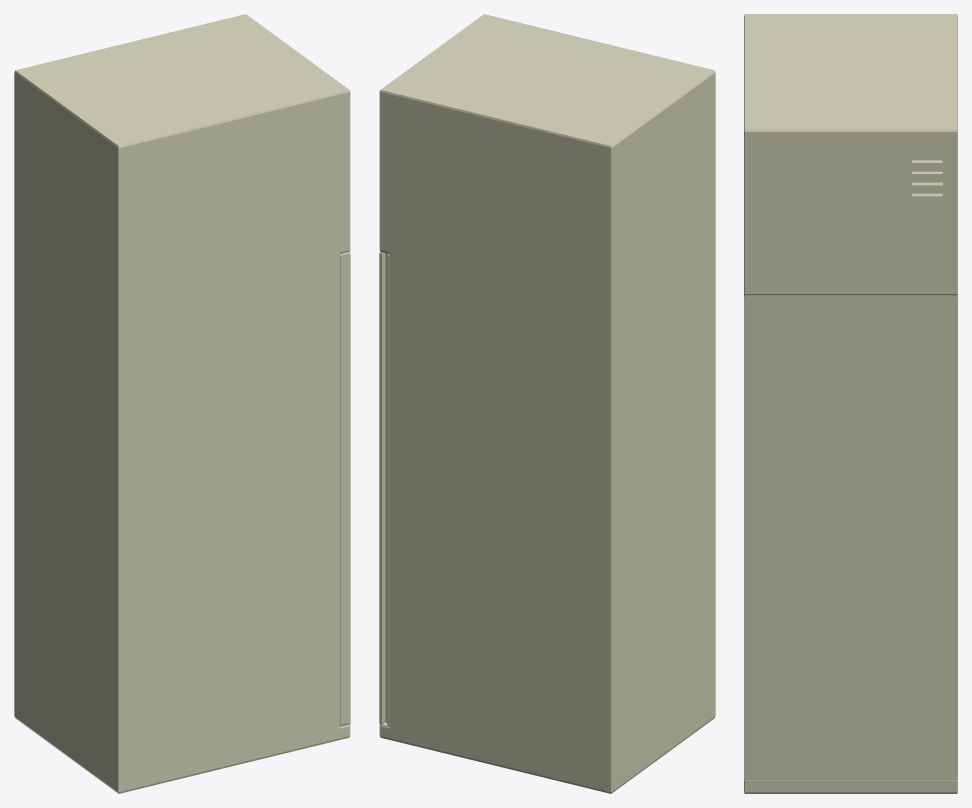
File: Frigo v2.fbx
The picture shows the model from 3 angles, left to right: view 1: azimuth 30°, elevation 25°; view 2: azimuth 150°, elevation 25°; view 3: azimuth 270°, elevation 25°; orthographic projection. The views are drawn at different scales.
Visible parts, largest first — view 1: Frigo, Porta; view 2: Frigo, Porta; view 3: Vetro, Frigo, Porta.
Part boxes in pixels (x1=…): Frigo: x1=14, y1=14, x2=350, y2=793; Porta: x1=340, y1=251, x2=350, y2=726; Frigo: x1=379, y1=14, x2=715, y2=793; Porta: x1=379, y1=251, x2=389, y2=726; Vetro: x1=760, y1=333, x2=941, y2=742; Frigo: x1=744, y1=14, x2=957, y2=793; Porta: x1=744, y1=294, x2=957, y2=780.
Size of the model in its own units: 90 by 240 by 70.
